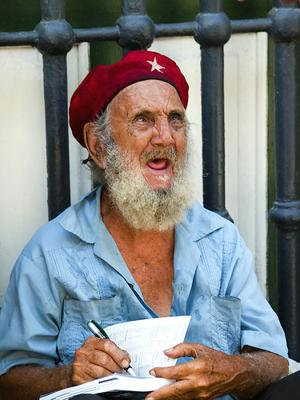person: (2, 48, 291, 398)
